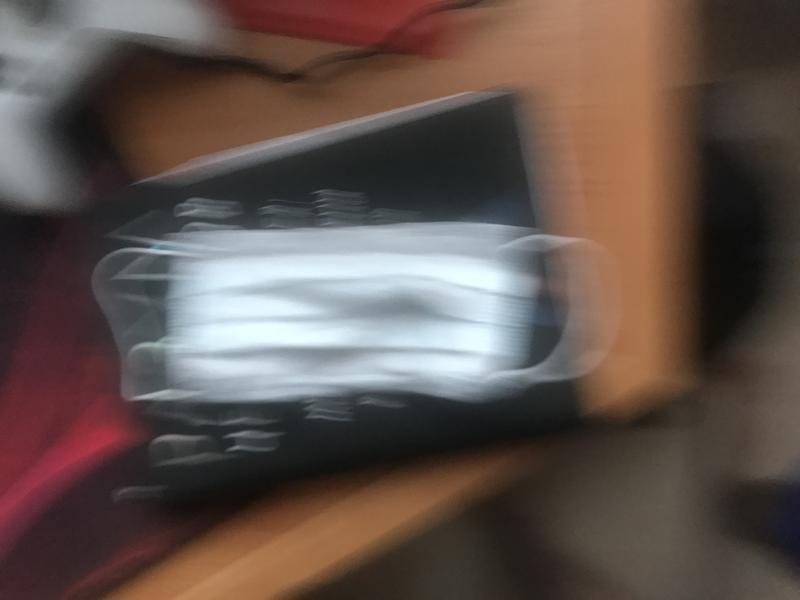medical_mask: (169, 234, 527, 393)
